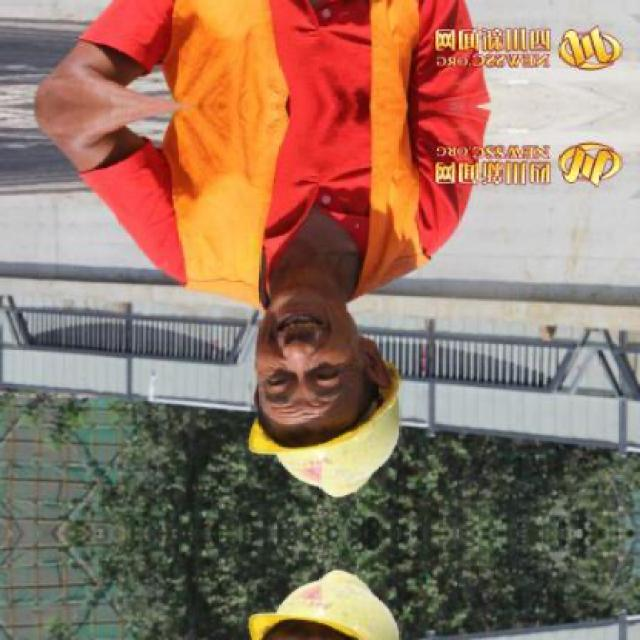con casco: (196, 217, 409, 518)
